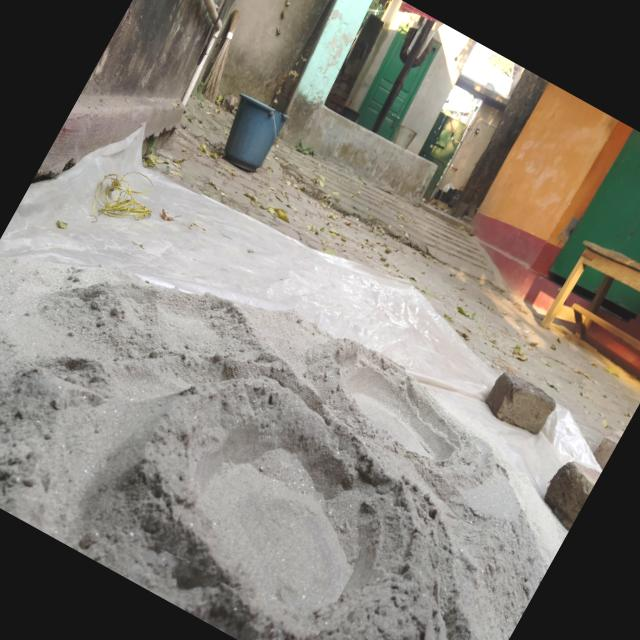C20: (195, 420, 351, 614), (337, 346, 455, 458)
